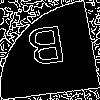B: (25, 25, 69, 75)
